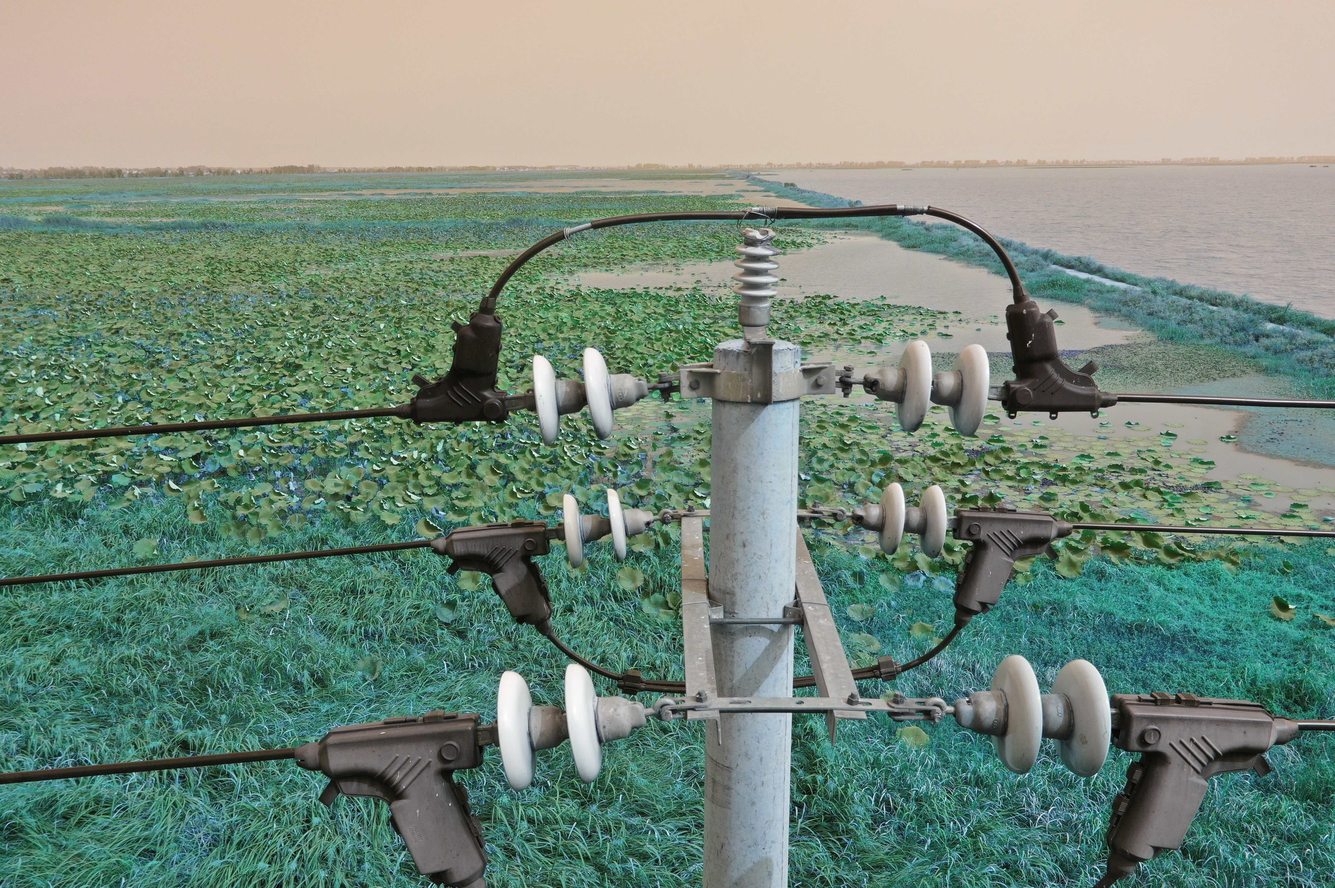severe_soiling_no_discharge_whole: (732, 225, 783, 327)
